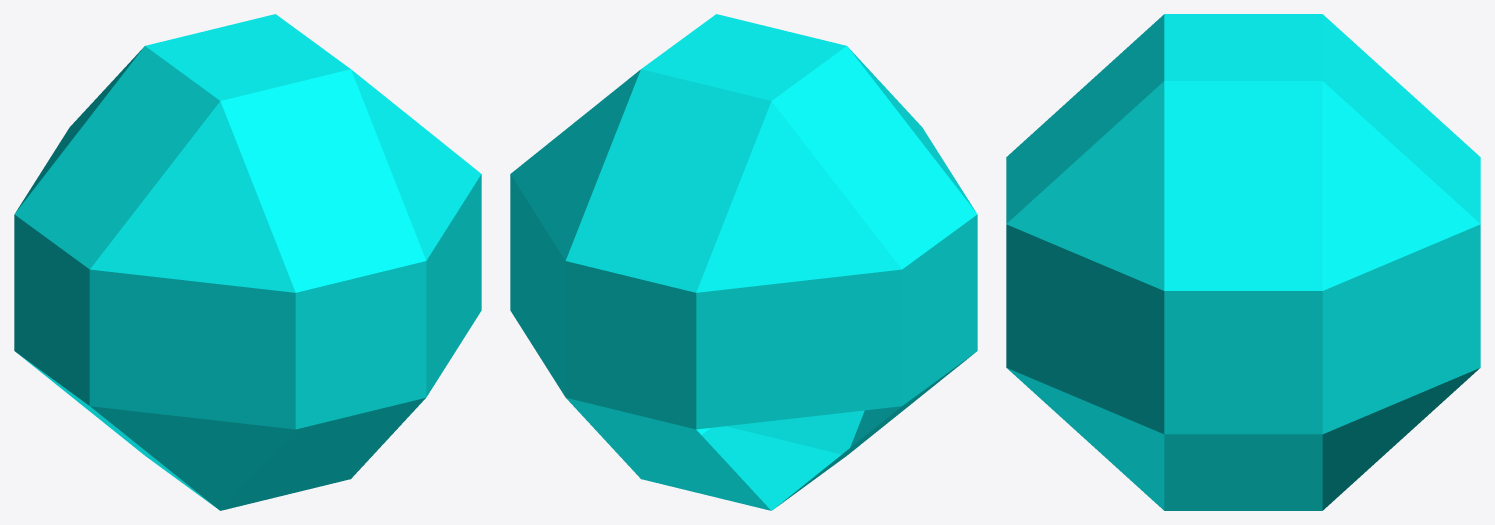
Rendered from Artifact.fbx.
3 views of the same model, side by side, from view 1: azimuth 30°, elevation 25°; view 2: azimuth 150°, elevation 25°; view 3: azimuth 270°, elevation 25° (orthographic). The views are drawn at different scales.
Parts seen in each view (by area): view 1: MoonCentre; view 2: MoonCentre; view 3: MoonCentre.
Boxes of the visible parts, x1=… form: MoonCentre: x1=14, y1=14, x2=481, y2=510; MoonCentre: x1=510, y1=14, x2=977, y2=510; MoonCentre: x1=1006, y1=14, x2=1480, y2=510.
Bounding box in the file's own units: 0.7392 × 0.7392 × 0.7392.
Materials: 1 (1 with a texture image).
